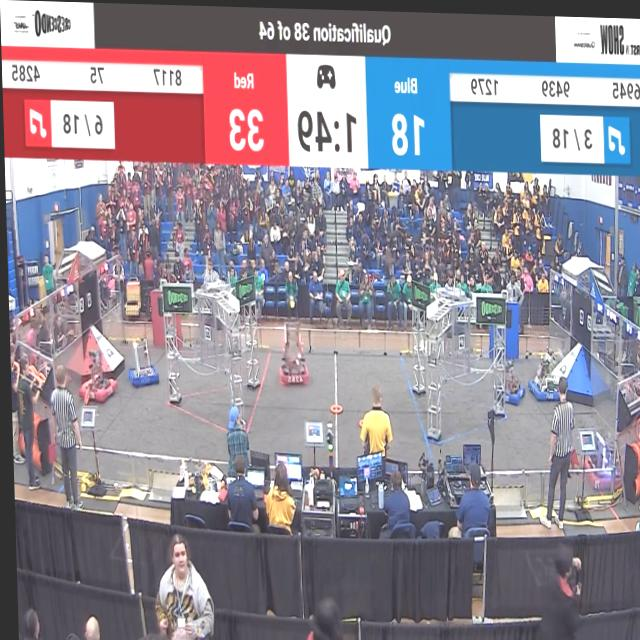Robot: (576, 417, 619, 489), (78, 332, 117, 407), (276, 325, 309, 389), (524, 340, 558, 402), (125, 332, 156, 392), (497, 351, 524, 404)
